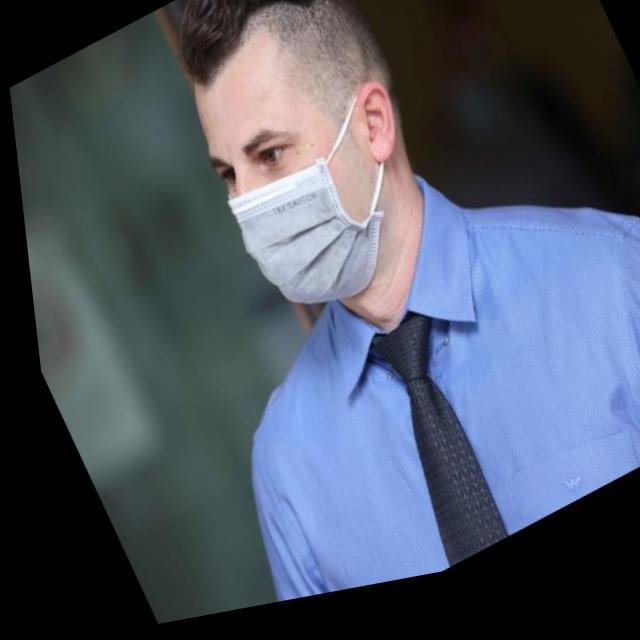Nonhelmet: (156, 0, 461, 314)
